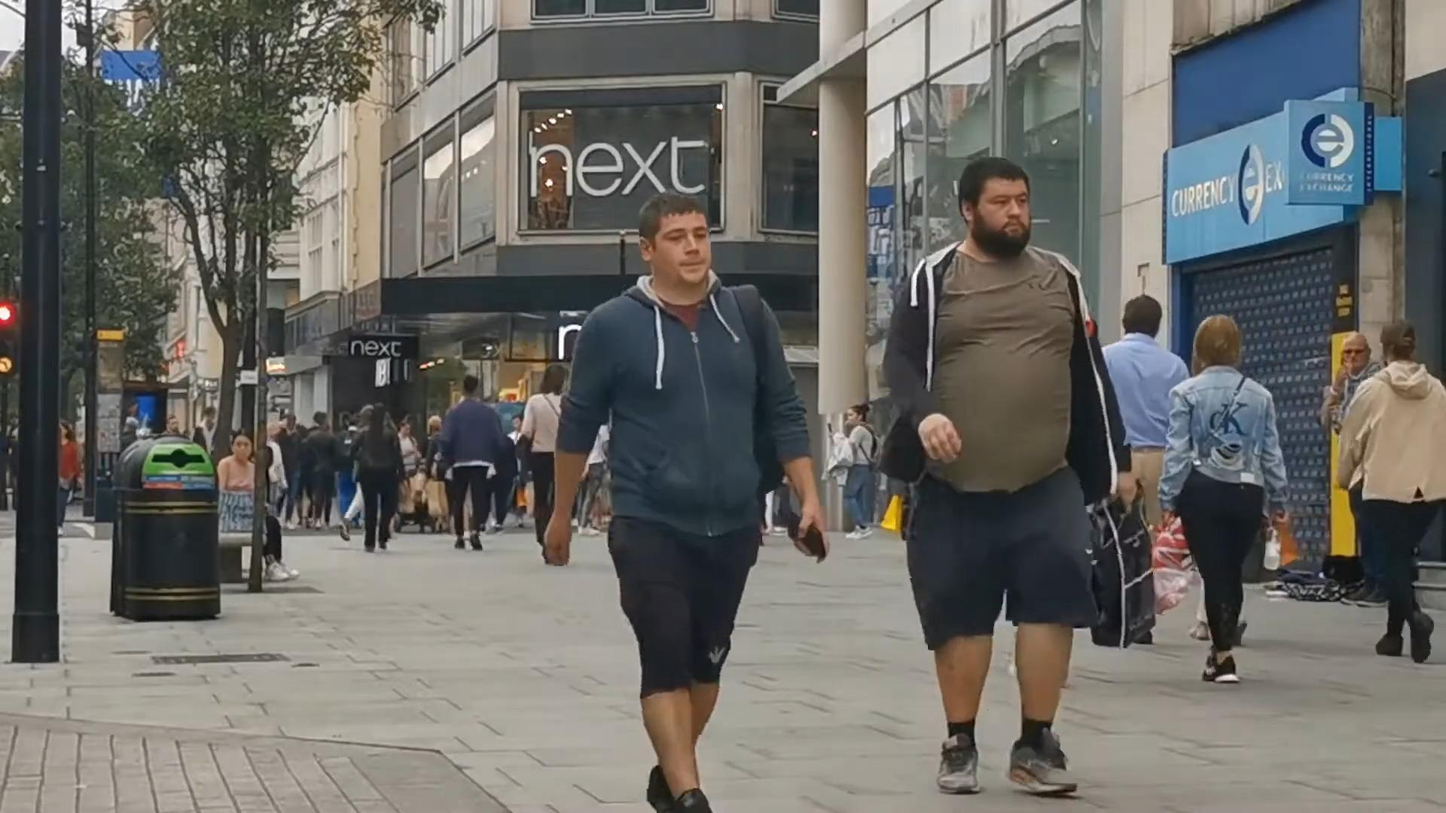no-helmet: (959, 157, 1031, 263), (638, 190, 712, 288), (1193, 314, 1243, 368), (1122, 293, 1162, 342), (1380, 319, 1416, 368), (1342, 332, 1371, 371), (540, 364, 565, 397), (231, 428, 254, 462), (847, 403, 870, 426)
